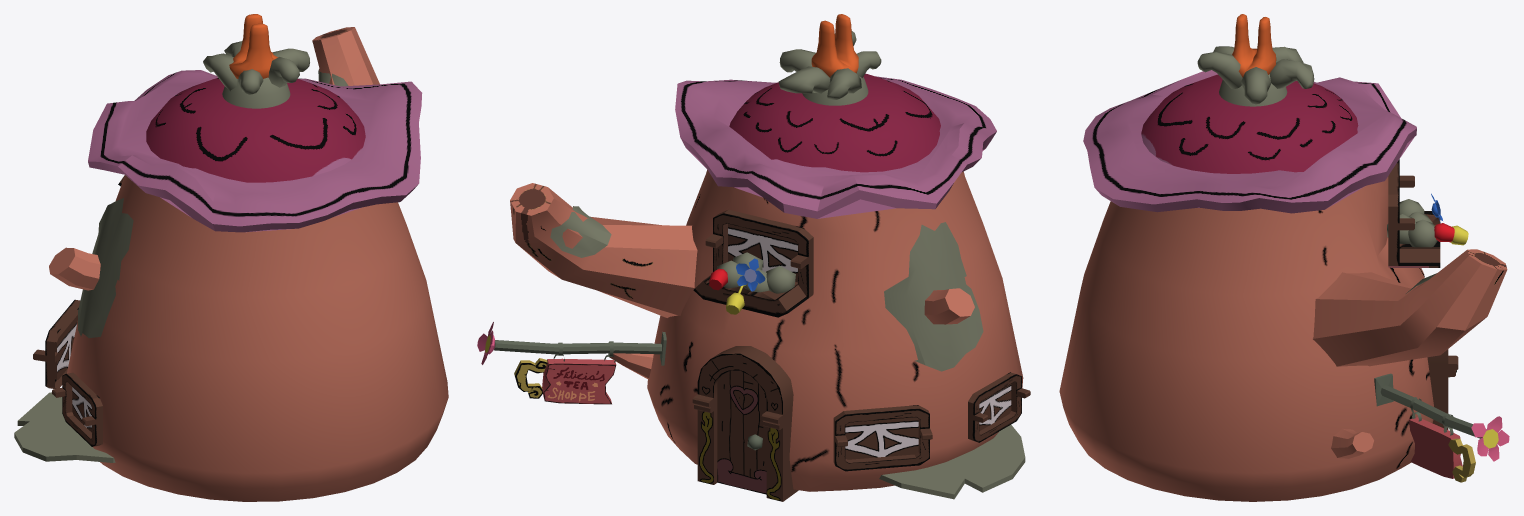
The model's file is FeliciaTeaShop.glb.
3 renders of one model, left to right at view 1: azimuth 30°, elevation 25°; view 2: azimuth 150°, elevation 25°; view 3: azimuth 270°, elevation 25°, orthographic. The views are drawn at different scales.
Visible parts, largest first — view 1: Cylinder.020, Cylinder.047, Cylinder.050, Cube.007, Cylinder.030, Cylinder.040, Cylinder.041, Cylinder.042, Cylinder.038; view 2: Cylinder.020, Cylinder.047, window.005, Cylinder.050, Cube.007, Cube.010, Cylinder.048, Cylinder.039, Cylinder.040, Cylinder.030, Icosphere.011, Cylinder.038 (+1 smaller); view 3: Cylinder.020, window.005, Cube.007, Cube.010, Cylinder.039, Cylinder.041, Cylinder.049, Cylinder.030, Cylinder.038, Icosphere.012.
Boxes of the visible parts, x1,y1,x2,y2 form: Cylinder.020: (33,27,448,501); Cylinder.047: (78,198,133,337); Cylinder.050: (14,392,115,462); Cube.007: (229,14,277,78); Cylinder.030: (222,77,290,108); Cylinder.040: (203,53,237,91); Cylinder.041: (268,57,299,87); Cylinder.042: (238,69,263,94); Cylinder.038: (272,48,309,71); Cylinder.020: (510,73,1030,501); Cylinder.047: (884,222,983,371); window.005: (693,209,813,317); Cylinder.050: (879,425,1025,499); Cube.007: (811,14,858,77); Cube.010: (494,331,666,365); Cylinder.048: (550,206,611,257); Cylinder.039: (778,66,830,93); Cylinder.040: (827,68,861,99); Cylinder.030: (802,76,868,105); Icosphere.011: (766,266,795,293); Cylinder.038: (779,49,815,72); Cylinder.020: (1059,70,1507,501); window.005: (1388,159,1440,267); Cube.007: (1232,14,1276,77); Cube.010: (1374,373,1486,438); Cylinder.039: (1269,59,1314,88); Cylinder.041: (1197,51,1242,88); Cylinder.049: (1471,416,1509,461); Cylinder.030: (1219,74,1287,106); Cylinder.038: (1241,67,1270,104); Icosphere.012: (1408,219,1437,247).
Size of the model in its own units: 9.49 by 8.1 by 7.98.
9 materials, 1 textured.
